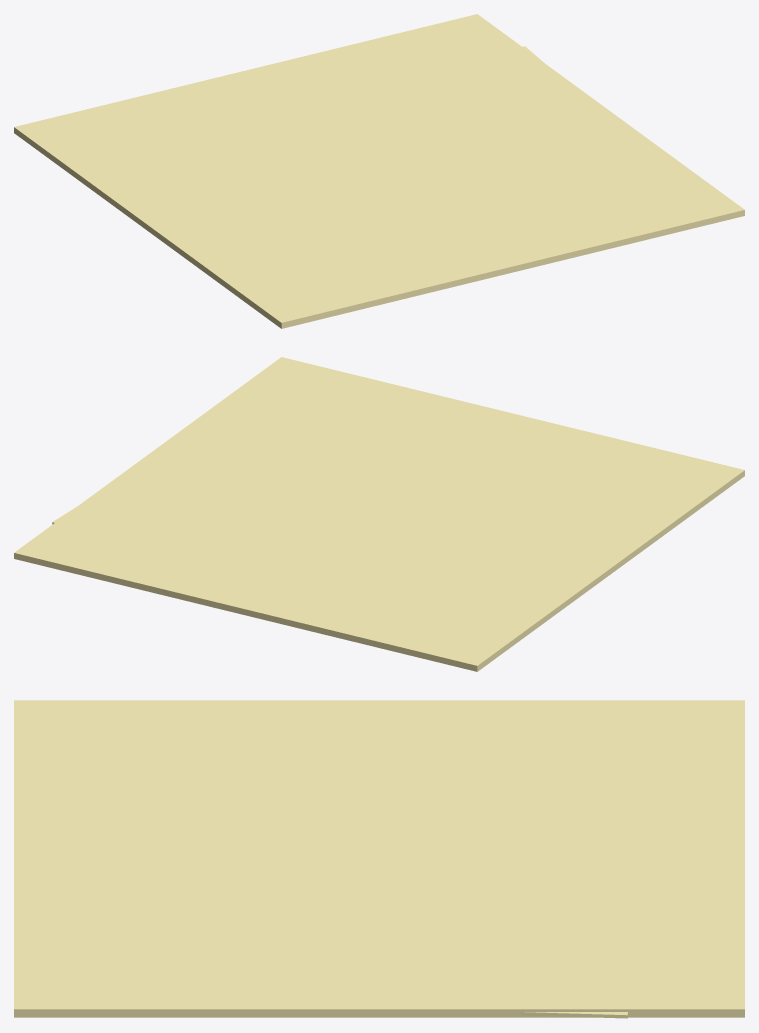
The model's file is road_workzone_left_hand_contraflow.glb.
3 renders of one model, top to bottom at view 1: azimuth 30°, elevation 25°; view 2: azimuth 150°, elevation 25°; view 3: azimuth 270°, elevation 25°, orthographic. The views are drawn at different scales.
Visible parts, largest first — view 1: base; view 2: base; view 3: base, gravel_fill.
Boxes of the visible parts, left/top/right/bottom form: base: left=14, top=14, right=744, bottom=328; base: left=14, top=357, right=744, bottom=671; base: left=14, top=700, right=744, bottom=1017; gravel_fill: left=520, top=1012, right=627, bottom=1018.
Bounding box in the file's own units: 4.04 × 0.05 × 4.
